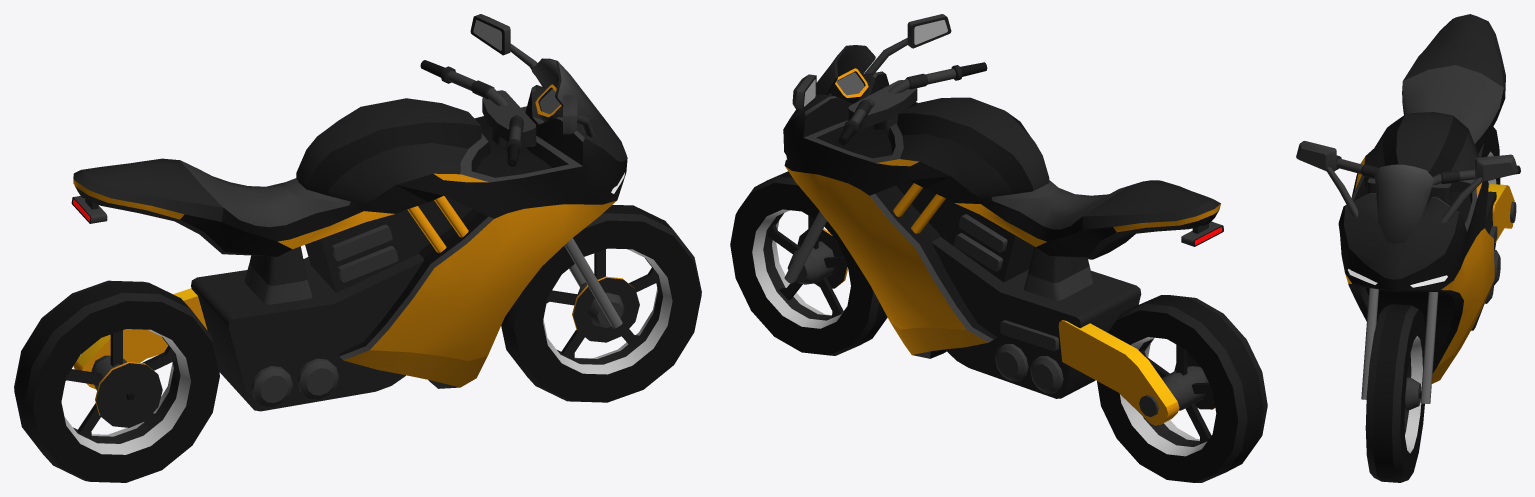
The model's file is Bike_006.glb.
3 renders of one model, left to right at view 1: azimuth 30°, elevation 25°; view 2: azimuth 150°, elevation 25°; view 3: azimuth 270°, elevation 25°, orthographic. The views are drawn at different scales.
Parts seen in each view (by area): view 1: Bike_006, wheel_1_Bike_006_Wheel_2L, wheel_0_Bike_006_Wheel_1R; view 2: Bike_006, wheel_1_Bike_006_Wheel_2L, wheel_0_Bike_006_Wheel_1R; view 3: Bike_006, wheel_0_Bike_006_Wheel_1R, wheel_1_Bike_006_Wheel_2L.
Boxes of the visible parts, x1=… form: Bike_006: x1=71, y1=14, x2=627, y2=411; wheel_1_Bike_006_Wheel_2L: x1=14, y1=280, x2=219, y2=482; wheel_0_Bike_006_Wheel_1R: x1=501, y1=205, x2=701, y2=402; Bike_006: x1=783, y1=14, x2=1223, y2=398; wheel_1_Bike_006_Wheel_2L: x1=1058, y1=295, x2=1267, y2=482; wheel_0_Bike_006_Wheel_1R: x1=730, y1=171, x2=887, y2=355; Bike_006: x1=1296, y1=14, x2=1520, y2=403; wheel_0_Bike_006_Wheel_1R: x1=1365, y1=304, x2=1425, y2=482; wheel_1_Bike_006_Wheel_2L: x1=1478, y1=127, x2=1516, y2=249.
Size of the model in its own units: 2.41 by 1.28 by 0.8818.
Materials: 2 (2 with a texture image).
